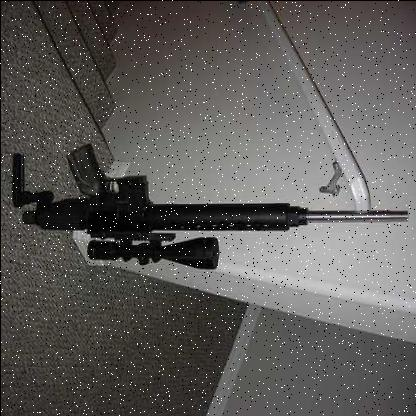rifle: (10, 121, 410, 279)
